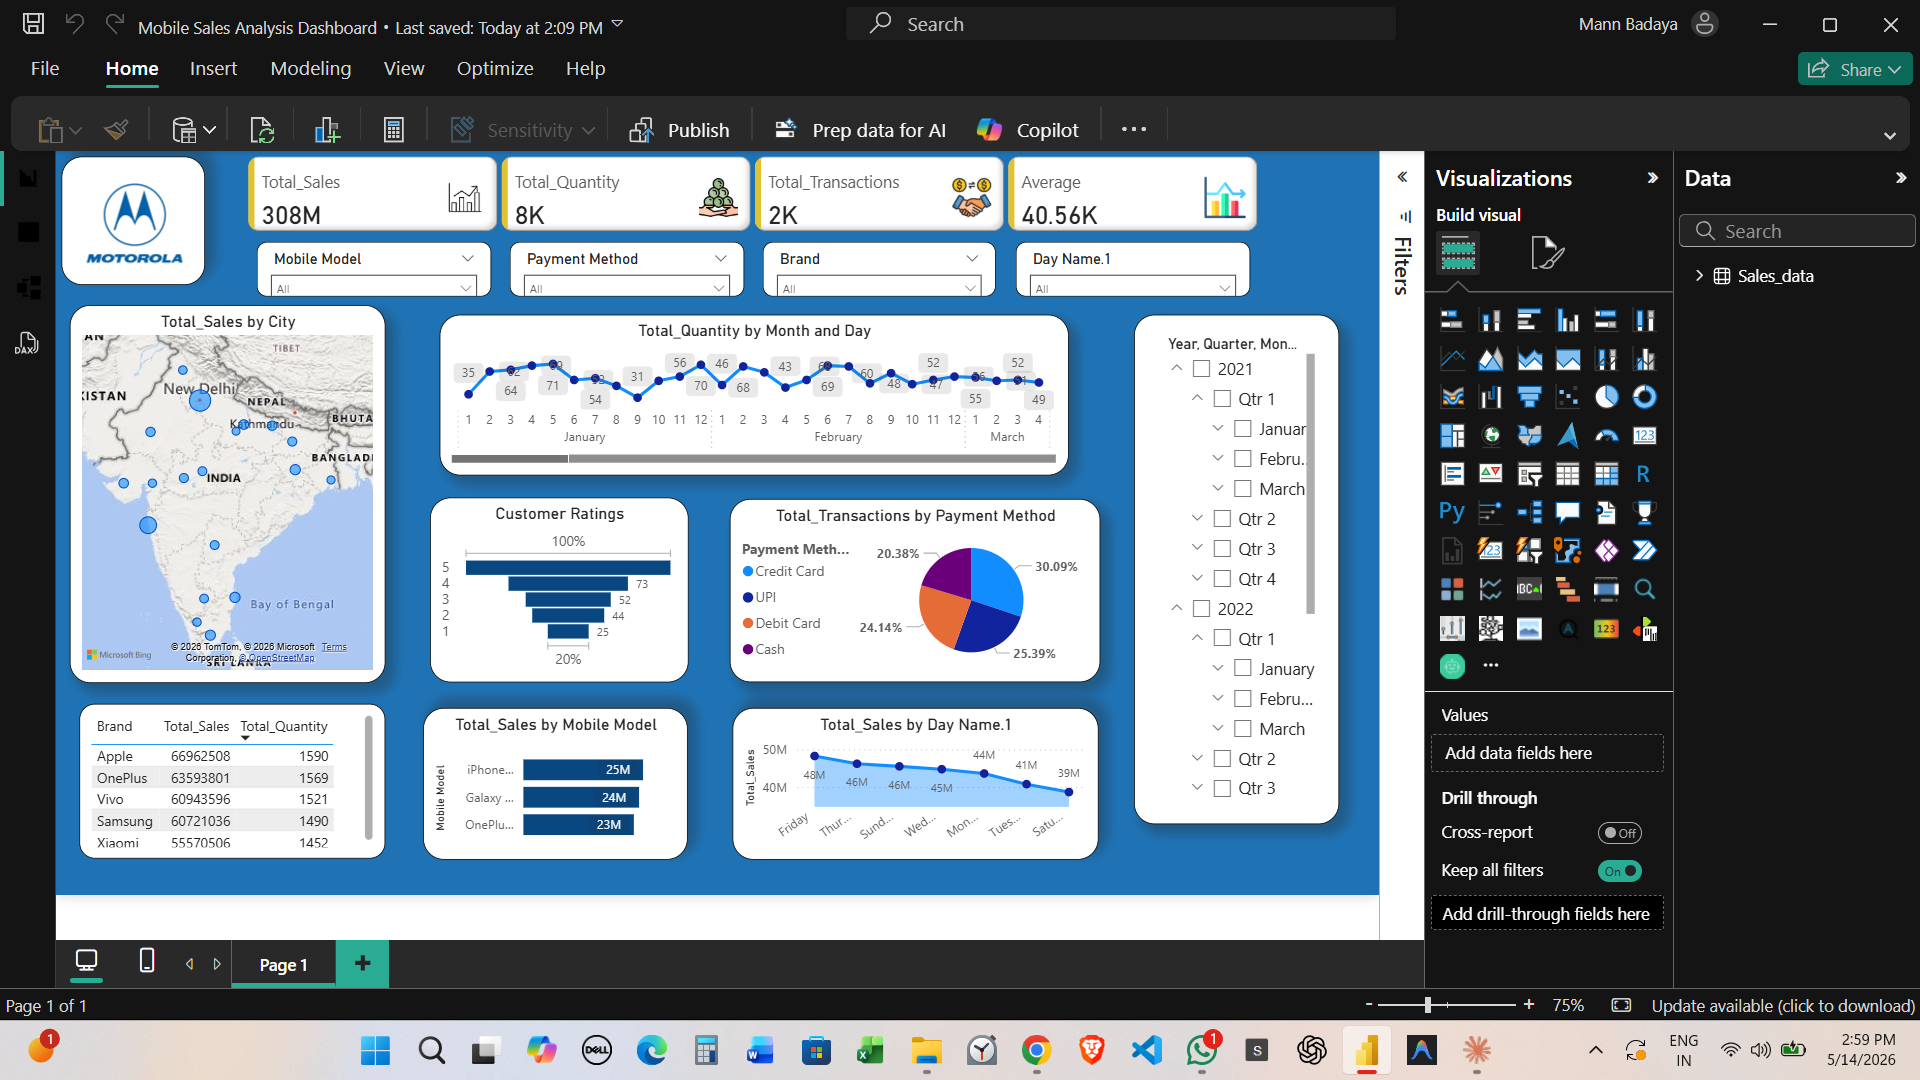

This screenshot's page, from the dashboard's own definition file:
{"tool":"powerbi","page":{"name":"Page 1","canvas":[1280,720],"ordinal":0},"visuals":[{"type":"shape","box":[5.7,5.7,138.6,124.3],"z":0},{"type":"image","box":[22.9,10,107.1,118.6],"z":1000},{"type":"shape","box":[1042.9,158.6,198.6,492.9],"z":2000},{"type":"cardVisual","fields":{"Data":["Sales_data.Total_Sales","Sales_data.Total_Quantity","Sales_data.Total_Transactions","Sales_data.Average"]},"box":[181.4,5.7,987.1,77.1],"z":4000},{"type":"map","fields":{"Category":["Sales_data.City"],"Size":["Sales_data.Total_Sales"]},"box":[12.9,148.6,305.7,365.7],"z":5000},{"type":"lineChart","fields":{"Y":["Sales_data.Total_Quantity"],"Category":["Sales_data.Date.Variation.Date Hierarchy.Month","Sales_data.Date.Variation.Date Hierarchy.Day"]},"box":[371.4,158.6,608.6,155.7],"z":6000},{"type":"clusteredBarChart","fields":{"Category":["Sales_data.Mobile Model"],"Y":["Sales_data.Total_Sales"]},"box":[355.7,538.6,255.7,147.1],"z":7000},{"type":"pieChart","fields":{"Category":["Sales_data.Payment Method"],"Y":["Sales_data.Total_Transactions"]},"box":[651.4,337.1,358.6,177.1],"z":8000},{"type":"funnel","title":"Customer Ratings ","fields":{"Category":["Sales_data.Customer Ratings"],"Y":["CountNonNull(Sales_data.Customer Ratings)"]},"box":[361.4,335.7,250,178.6],"z":9000},{"type":"areaChart","fields":{"Category":["Sales_data.Day Name.1"],"Y":["Sales_data.Total_Sales"]},"box":[654.3,538.6,354.3,147.1],"z":10000},{"type":"tableEx","fields":{"Values":["Sales_data.Brand","Sales_data.Total_Sales","Sales_data.Total_Quantity"]},"box":[22.9,534.3,295.7,150],"z":11000},{"type":"slicer","fields":{"Values":["Sales_data.Mobile Model"]},"box":[194.3,87.1,227.1,52.9],"z":12000},{"type":"slicer","fields":{"Values":["Sales_data.Payment Method"]},"box":[438.6,87.1,227.1,52.9],"z":13000},{"type":"slicer","fields":{"Values":["Sales_data.Brand"]},"box":[684.3,87.1,225.7,52.9],"z":14000},{"type":"slicer","fields":{"Values":["Sales_data.Day Name.1"]},"box":[928.6,87.1,227.1,52.9],"z":15000},{"type":"slicer","fields":{"Values":["Sales_data.Date.Variation.Date Hierarchy.Year","Sales_data.Date.Variation.Date Hierarchy.Quarter","Sales_data.Date.Variation.Date Hierarchy.Month","Sales_data.Date.Variation.Date Hierarchy.Day"]},"box":[1062.9,172.9,160,464.3],"z":15001}]}

Visuals, with their boxes on the page's 1280x720 design canvas (x1, y1, x2, y2). These are canvas units, not pixel positions in the 1920x1080 screenshot, which may show the page scaled, cropped or inside an application window:
shape: bbox(6, 6, 144, 130)
image: bbox(23, 10, 130, 129)
shape: bbox(1043, 159, 1242, 652)
cardVisual - Sales_data.Total_Sales x Sales_data.Total_Quantity: bbox(181, 6, 1168, 83)
map - Sales_data.City x Sales_data.Total_Sales: bbox(13, 149, 319, 514)
lineChart - Sales_data.Total_Quantity x Sales_data.Date.Variation.Date Hierarchy.Month: bbox(371, 159, 980, 314)
clusteredBarChart - Sales_data.Mobile Model x Sales_data.Total_Sales: bbox(356, 539, 611, 686)
pieChart - Sales_data.Payment Method x Sales_data.Total_Transactions: bbox(651, 337, 1010, 514)
"Customer Ratings " funnel: bbox(361, 336, 611, 514)
areaChart - Sales_data.Day Name.1 x Sales_data.Total_Sales: bbox(654, 539, 1009, 686)
tableEx - Sales_data.Brand x Sales_data.Total_Sales: bbox(23, 534, 319, 684)
slicer - Sales_data.Mobile Model: bbox(194, 87, 421, 140)
slicer - Sales_data.Payment Method: bbox(439, 87, 666, 140)
slicer - Sales_data.Brand: bbox(684, 87, 910, 140)
slicer - Sales_data.Day Name.1: bbox(929, 87, 1156, 140)
slicer - Sales_data.Date.Variation.Date Hierarchy.Year x Sales_data.Date.Variation.Date Hierarchy.Quarter: bbox(1063, 173, 1223, 637)
